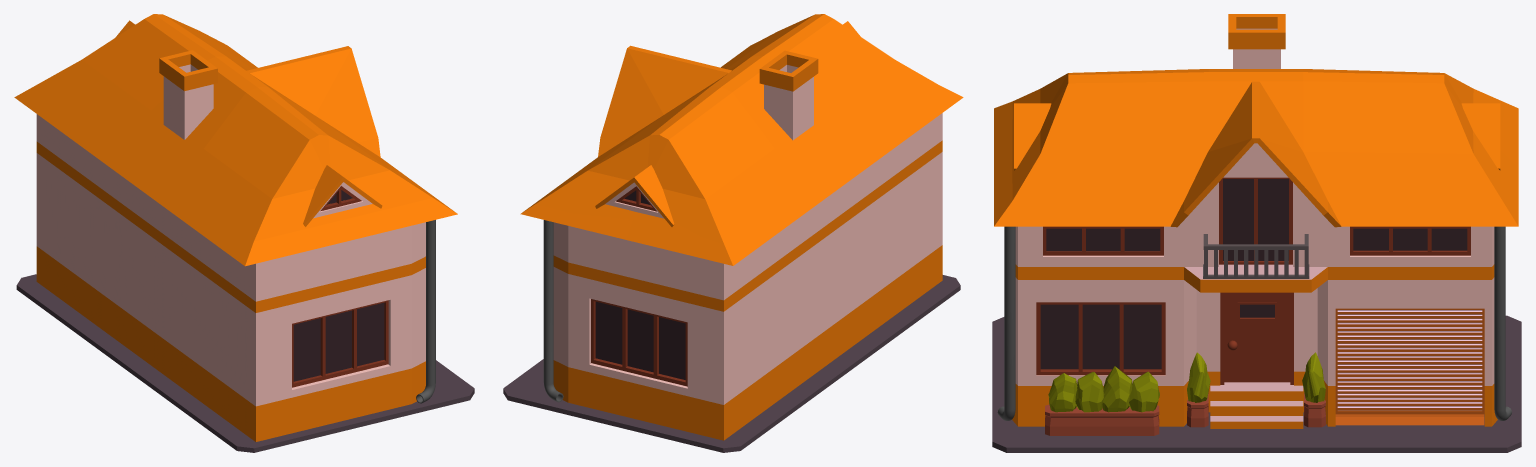
File: house_2.glb
The picture shows the model from 3 angles, left to right: view 1: azimuth 30°, elevation 25°; view 2: azimuth 150°, elevation 25°; view 3: azimuth 270°, elevation 25°; orthographic projection. The views are drawn at different scales.
Parts seen in each view (by area): view 1: PublicBuilding_4; view 2: PublicBuilding_4; view 3: PublicBuilding_4.
Boxes of the visible parts, x1,y1,x2,y2 form: PublicBuilding_4: (14, 14, 474, 452); PublicBuilding_4: (503, 14, 963, 452); PublicBuilding_4: (992, 14, 1521, 452).
Bounding box in the file's own units: 2.93 × 3.44 × 4.97.
Materials: 1 (1 with a texture image).
